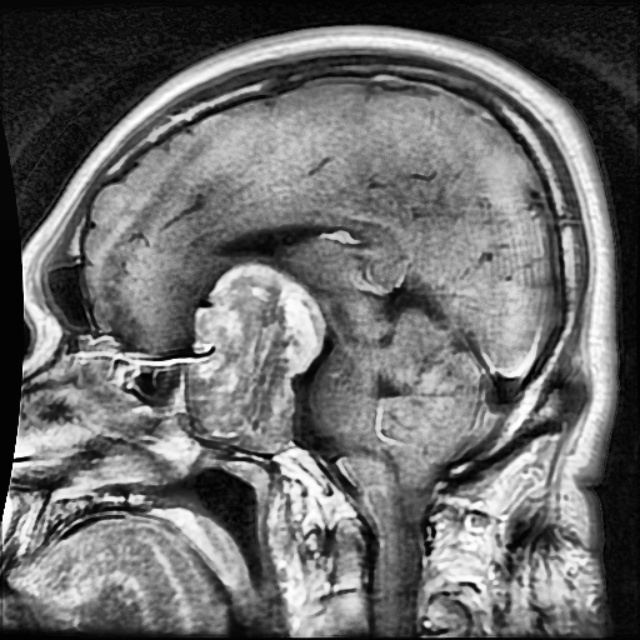Pituitary: (190, 269, 323, 452)
